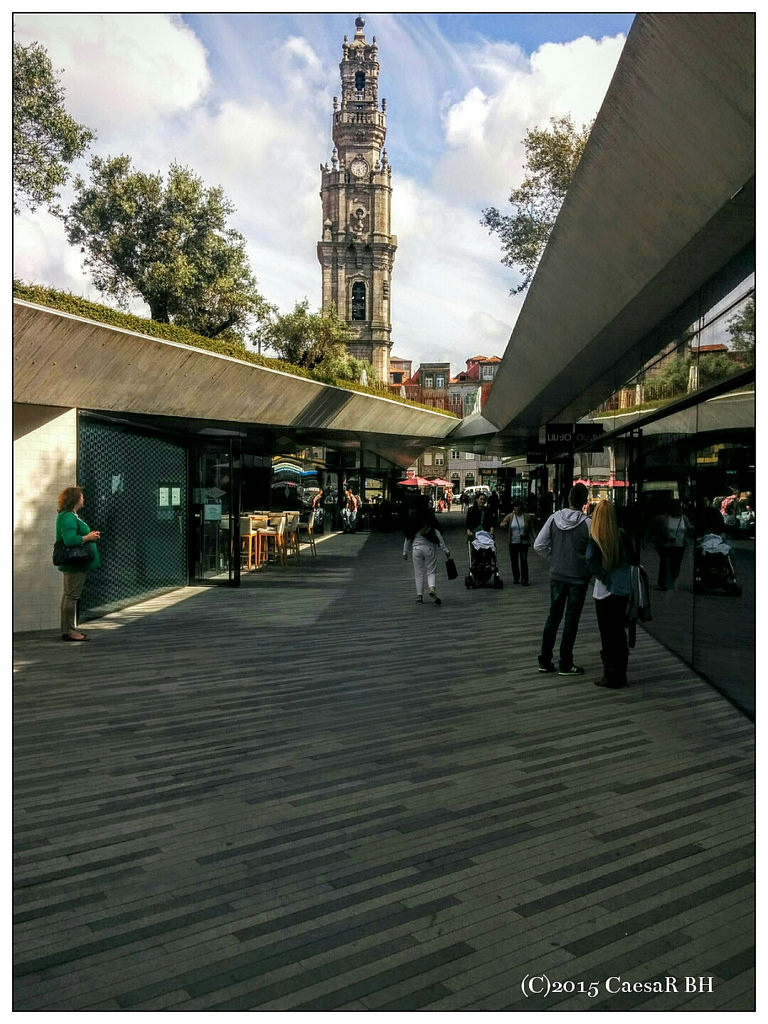clerigos: (318, 0, 396, 391)
